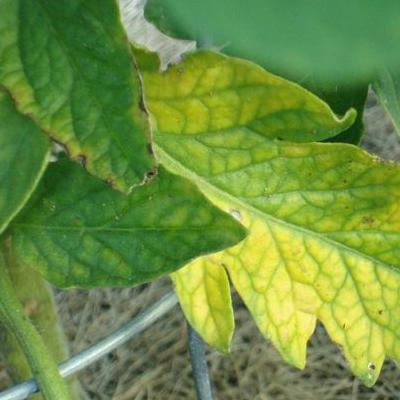Tomato mold leaf: (130, 46, 400, 400), (0, 160, 246, 295), (0, 0, 166, 199)
